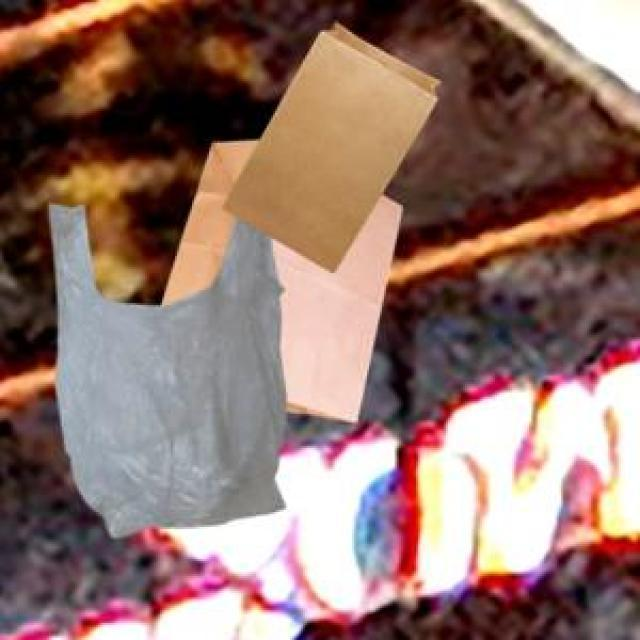paper: (158, 137, 397, 418), (218, 19, 435, 269)
